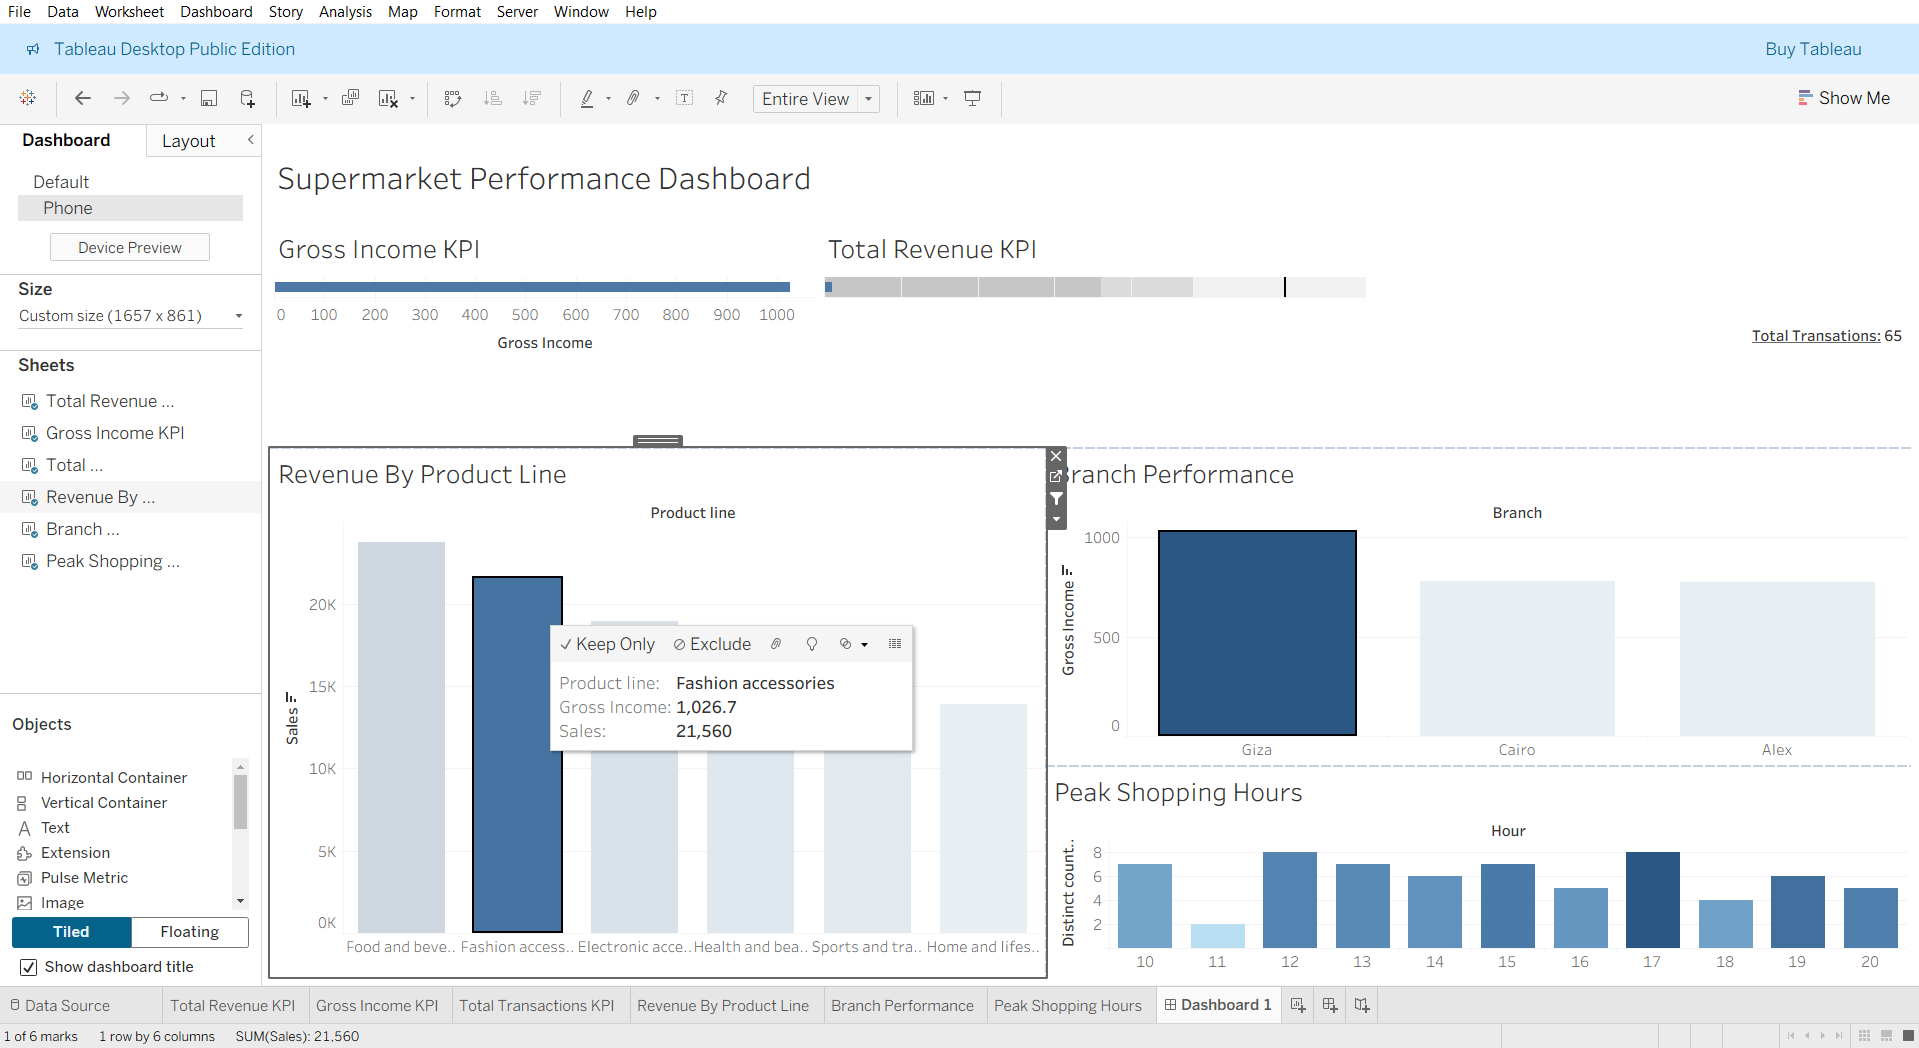

The page's visual inventory and layout, read from the dashboard file:
{"tool":"tableau","page":{"name":"Dashboard 1","canvas":[1657,861],"ordinal":0},"visuals":[{"type":"title","box":[8,8,1641,91]},{"type":"worksheet","title":"Gross Income KPI","mark":"Automatic","cols":["gross income"],"box":[8,99,550,225.4]},{"type":"worksheet","title":"Total Revenue KPI","mark":"Automatic","cols":["Sales"],"box":[558,99,550,225.4]},{"type":"worksheet","title":"Total Transactions KPI","mark":"Automatic","box":[1108,99,541,225.4]},{"type":"worksheet","title":"Revenue By Product Line","mark":"Automatic","rows":["Sales"],"cols":["Product line"],"box":[8,324.4,776.5,528.6]},{"type":"worksheet","title":"Branch Performance","mark":"Automatic","rows":["gross income"],"cols":["Branch"],"box":[784.5,324.4,864.5,317.4]},{"type":"worksheet","title":"Peak Shopping Hours","mark":"Automatic","rows":["Invoice ID"],"cols":["Hour"],"box":[784.5,641.7,864.5,211.3]}]}

Visuals, with their boxes on the page's 1657x861 design canvas (x1, y1, x2, y2). These are canvas units, not pixel positions in the 1919x1048 screenshot, which may show the page scaled, cropped or inside an application window:
title: {"left": 8, "top": 8, "right": 1649, "bottom": 99}
"Gross Income KPI" worksheet: {"left": 8, "top": 99, "right": 558, "bottom": 324}
"Total Revenue KPI" worksheet: {"left": 558, "top": 99, "right": 1108, "bottom": 324}
"Total Transactions KPI" worksheet: {"left": 1108, "top": 99, "right": 1649, "bottom": 324}
"Revenue By Product Line" worksheet: {"left": 8, "top": 324, "right": 784, "bottom": 853}
"Branch Performance" worksheet: {"left": 784, "top": 324, "right": 1649, "bottom": 642}
"Peak Shopping Hours" worksheet: {"left": 784, "top": 642, "right": 1649, "bottom": 853}
